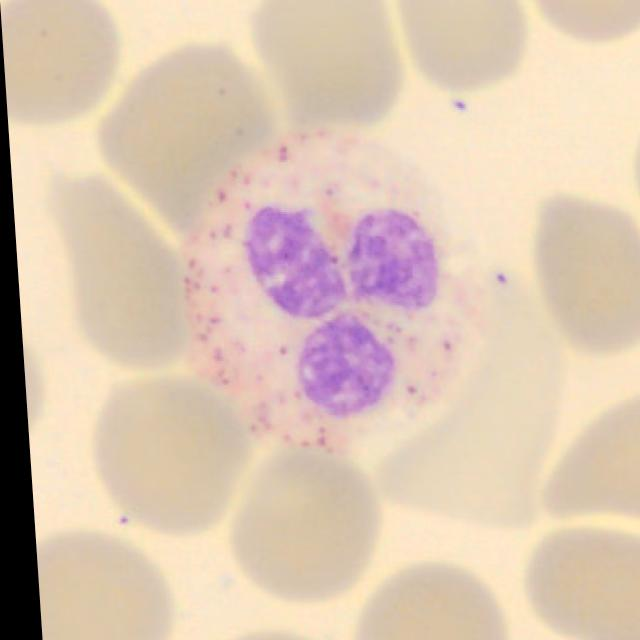Neutrofilo segmentado: (176, 128, 495, 463)
